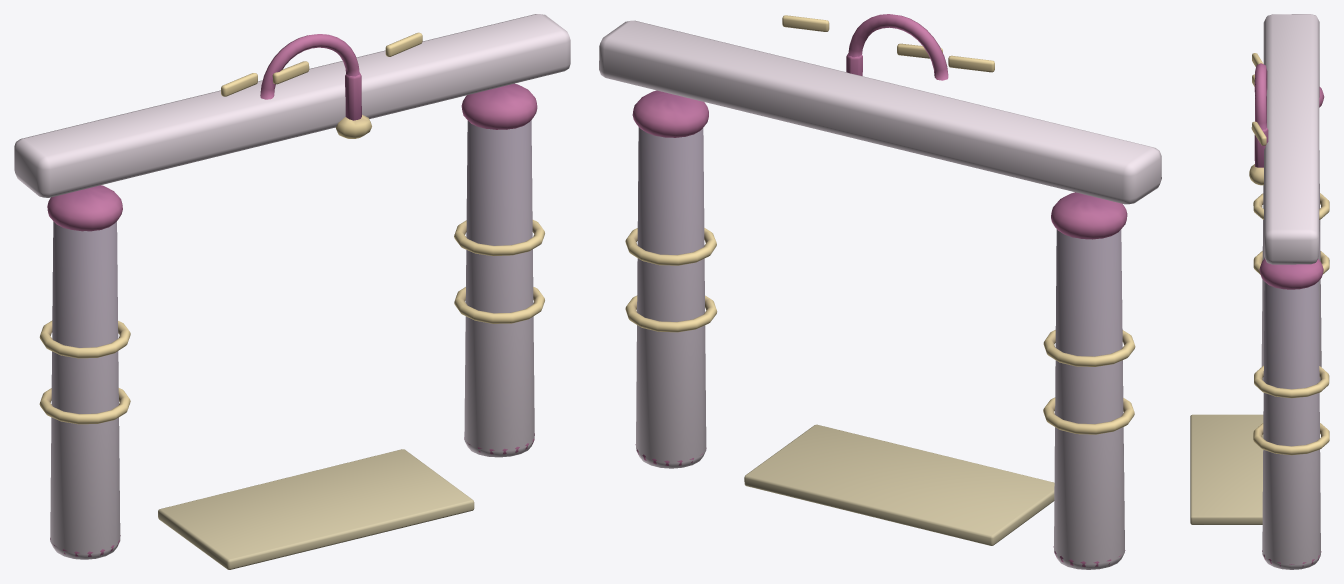
3 renders of one model, left to right at view 1: azimuth 30°, elevation 25°; view 2: azimuth 150°, elevation 25°; view 3: azimuth 270°, elevation 25°, orthographic. The views are drawn at different scales.
Visible parts, largest first — view 1: gate_f90e76e8; view 2: gate_f90e76e8; view 3: gate_f90e76e8.
Part boxes in pixels (left/top/right/bottom): gate_f90e76e8: left=14, top=14, right=570, bottom=569; gate_f90e76e8: left=599, top=14, right=1161, bottom=569; gate_f90e76e8: left=1190, top=14, right=1329, bottom=569.
Bounding box in the file's own units: 5.19 × 4.46 × 1.38.
